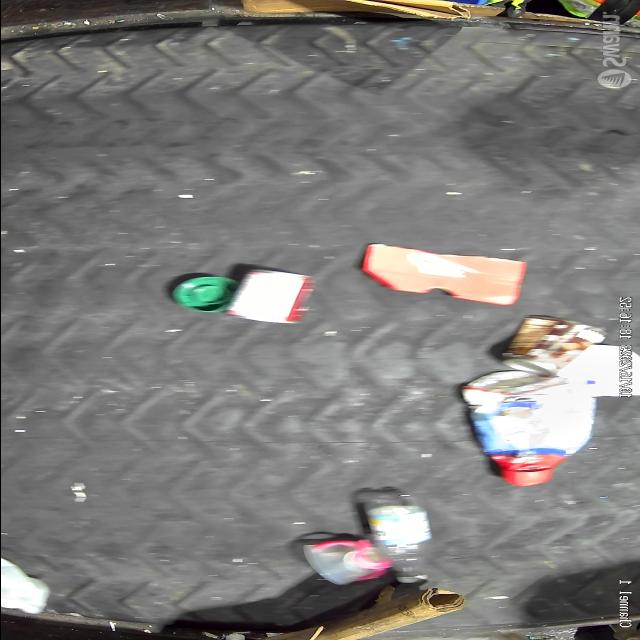can: (499, 313, 606, 377)
non_white_jug: (454, 371, 598, 486)
plastic_bottle: (375, 493, 435, 585)
